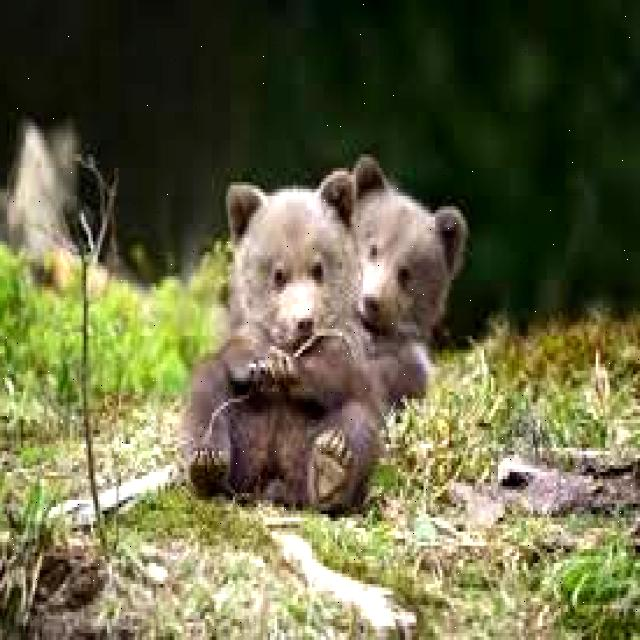bear: (223, 173, 342, 391), (360, 168, 460, 380)
